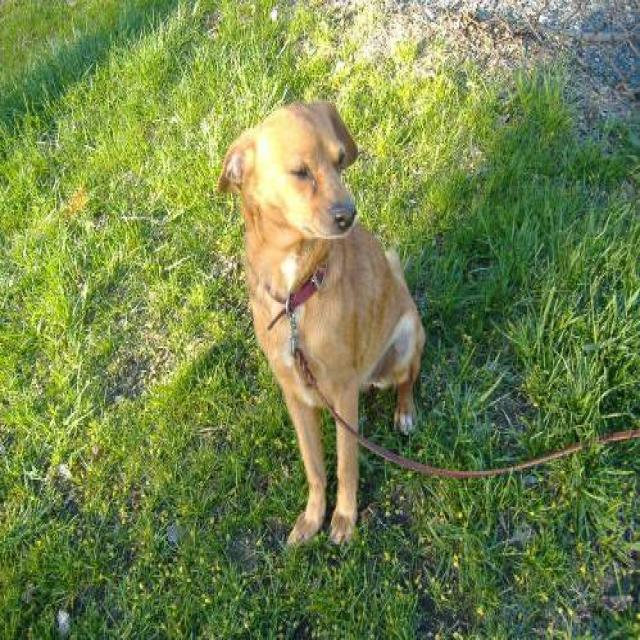adult_dog: (214, 98, 428, 548)
